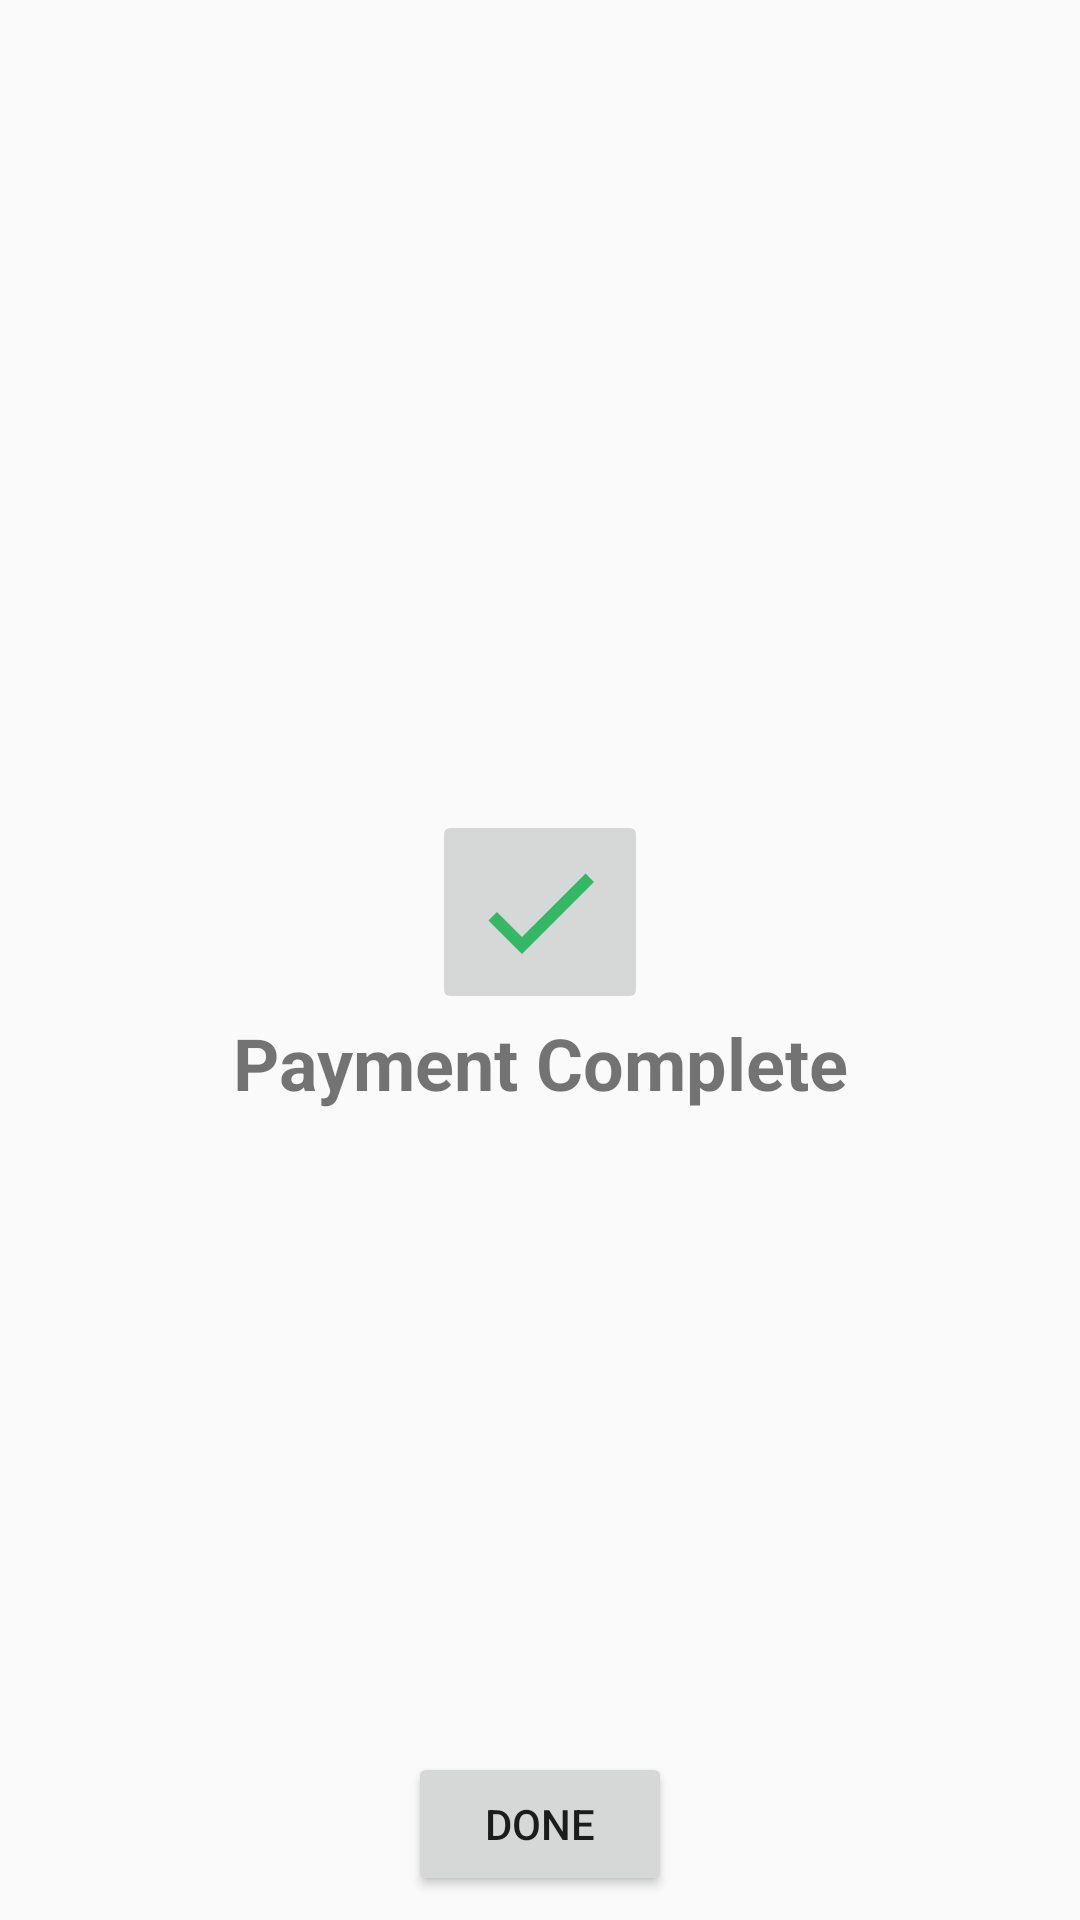

Icons on this 1080 × 1920 Android screen, each with its box as (x1, y1, x2, y2):
check: (444, 828, 636, 996)
